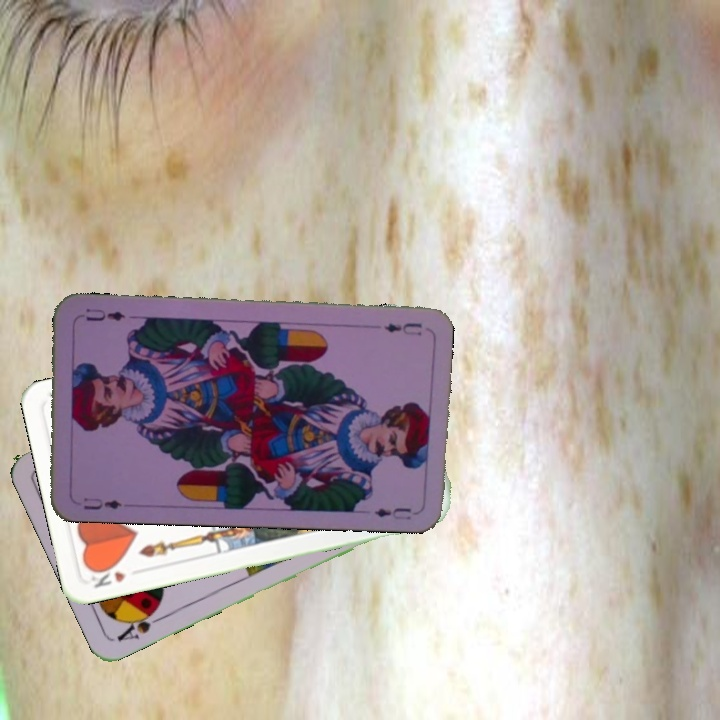EU: (79, 493, 125, 513), (380, 319, 425, 338)
HK: (84, 561, 129, 591)
SA: (112, 602, 168, 644)
